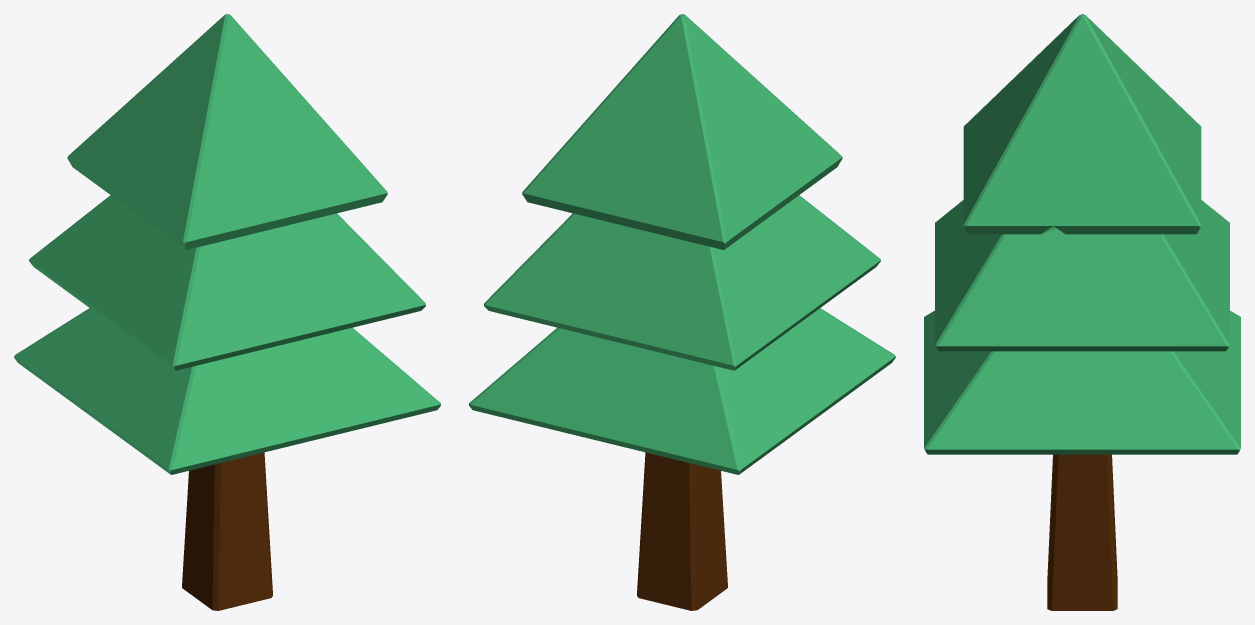
Rendered from TreeCutted.fbx.
The picture shows the model from 3 angles, left to right: view 1: azimuth 30°, elevation 25°; view 2: azimuth 150°, elevation 25°; view 3: azimuth 270°, elevation 25°; orthographic projection.
Parts seen in each view (by area): view 1: Cube; view 2: Cube; view 3: Cube.
Part boxes in pixels (x1=…): Cube: x1=14, y1=14, x2=440, y2=610; Cube: x1=469, y1=14, x2=895, y2=610; Cube: x1=924, y1=14, x2=1240, y2=610.
Size of the model in its own units: 365 by 738 by 365.
